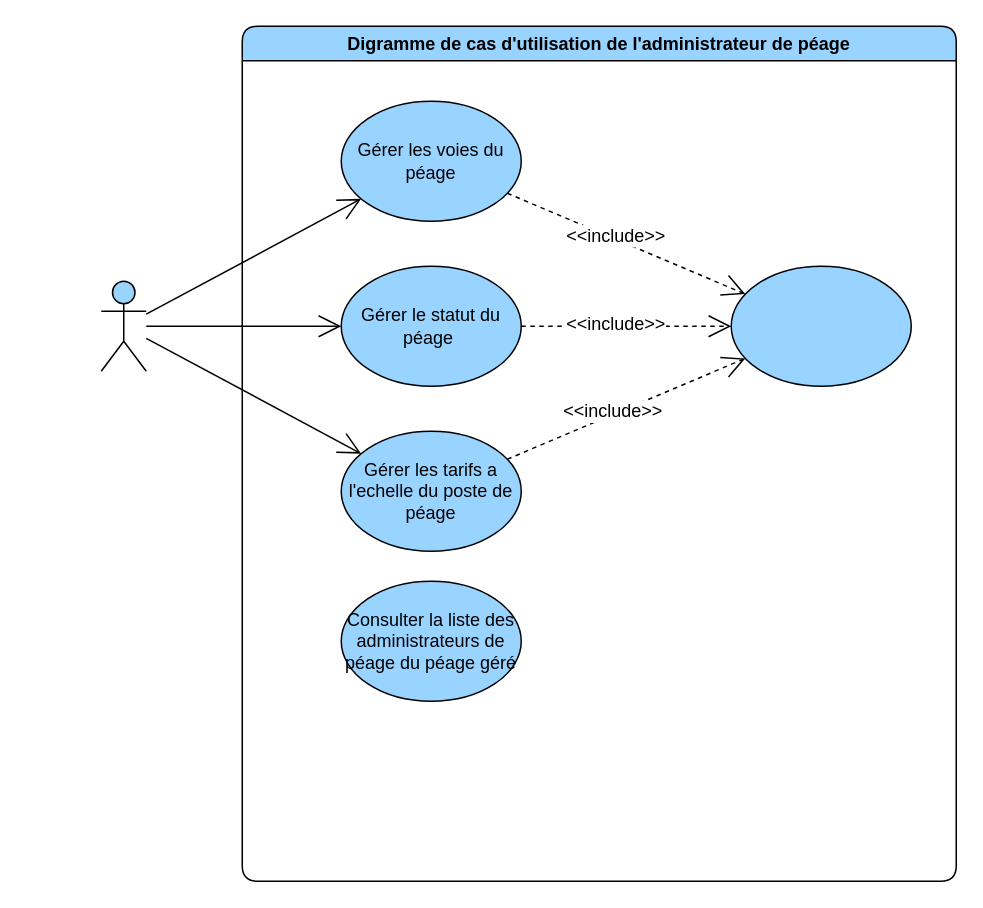
Some shapes in this 983 by 908 pixel diagram are drawn without their labels. The centre of each missing label's shape, as x and y in pixels:
"Administrateur de péage" goes at (123,325).
"S'authenthifier" goes at (820,325).
